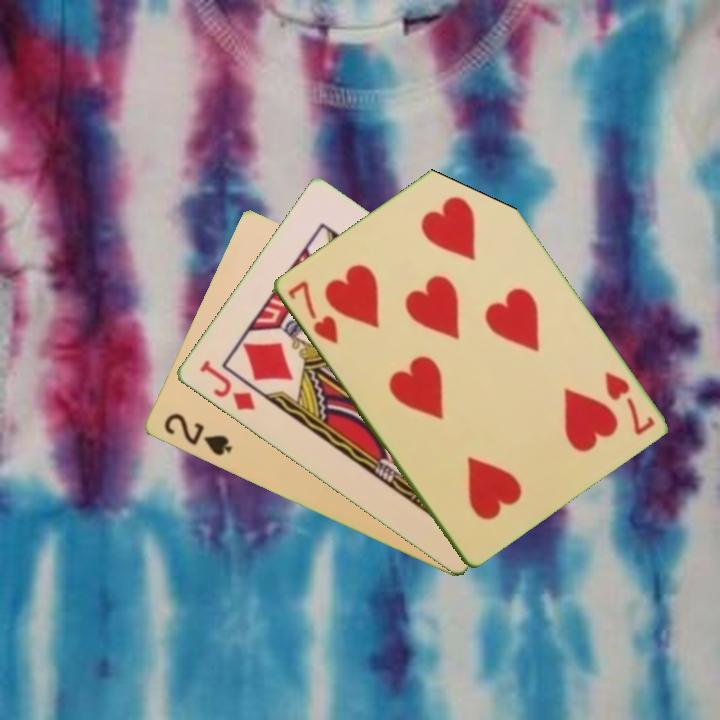2s: (160, 409, 235, 459)
7h: (283, 277, 341, 347), (600, 368, 657, 438)
Jd: (195, 357, 258, 414)
